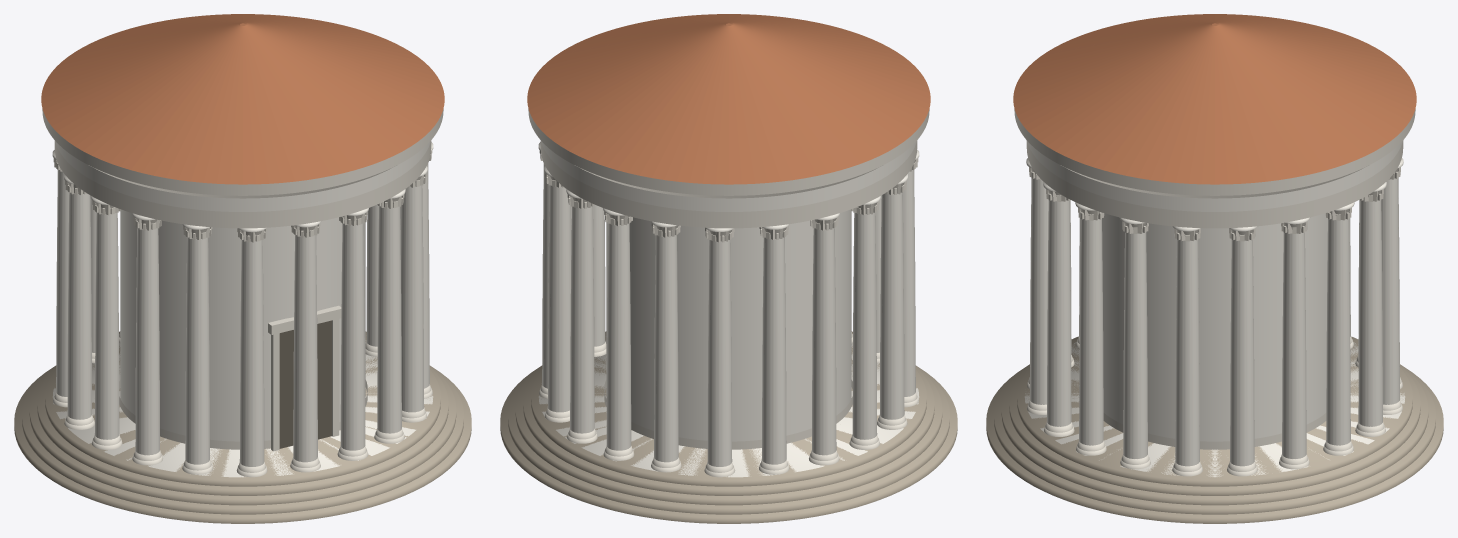
Rendered from hercules-victor-v1.glb.
The picture shows the model from 3 angles, left to right: view 1: azimuth 30°, elevation 25°; view 2: azimuth 150°, elevation 25°; view 3: azimuth 270°, elevation 25°; orthographic projection.
Parts seen in each view (by area): view 1: hercules-marble, hercules-roof, hercules-tufa, hercules-marble-shade, hercules-recess; view 2: hercules-marble, hercules-roof, hercules-tufa, hercules-marble-shade; view 3: hercules-marble, hercules-roof, hercules-tufa, hercules-marble-shade.
Boxes of the visible parts, x1=… form: hercules-marble: x1=52, y1=141, x2=433, y2=477; hercules-roof: x1=41, y1=14, x2=444, y2=184; hercules-tufa: x1=14, y1=331, x2=471, y2=523; hercules-marble-shade: x1=42, y1=109, x2=443, y2=477; hercules-recess: x1=279, y1=320, x2=331, y2=448; hercules-marble: x1=538, y1=141, x2=919, y2=477; hercules-roof: x1=527, y1=14, x2=930, y2=184; hercules-tufa: x1=500, y1=331, x2=957, y2=523; hercules-marble-shade: x1=528, y1=109, x2=929, y2=477; hercules-marble: x1=1024, y1=141, x2=1405, y2=477; hercules-roof: x1=1013, y1=14, x2=1416, y2=184; hercules-tufa: x1=986, y1=336, x2=1443, y2=523; hercules-marble-shade: x1=1014, y1=109, x2=1415, y2=476.
Size of the model in its own units: 17.8 by 17.29 by 17.8.
